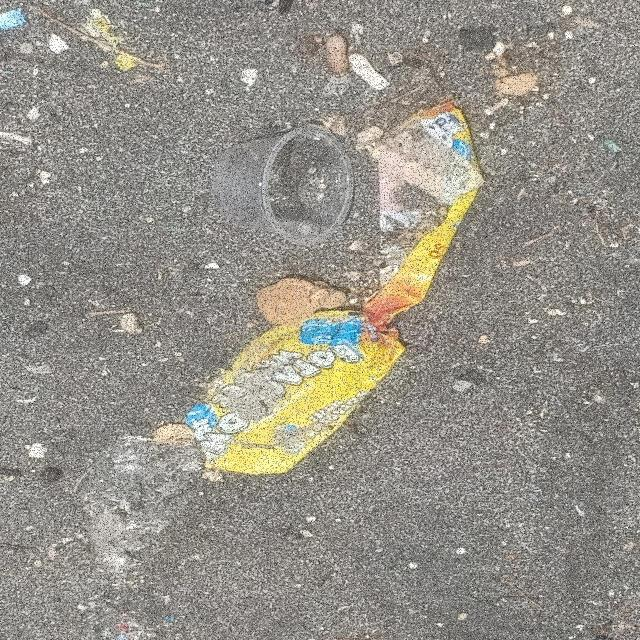plastic_waste: (187, 310, 406, 476), (212, 124, 357, 247)
